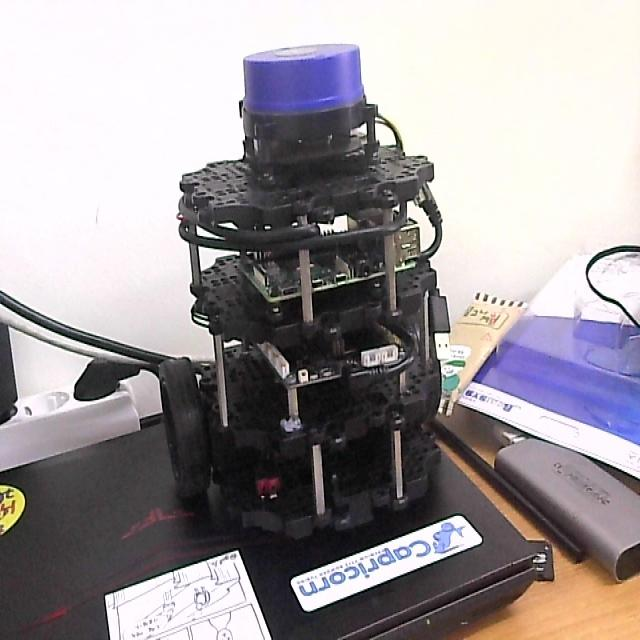turtle: (156, 41, 455, 544)
